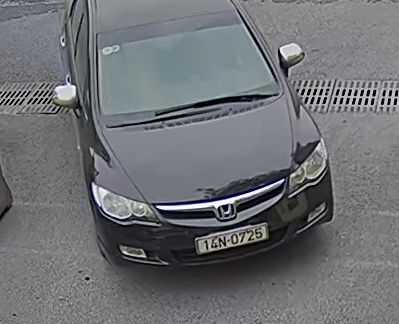vehicle plate: (194, 220, 271, 256)
